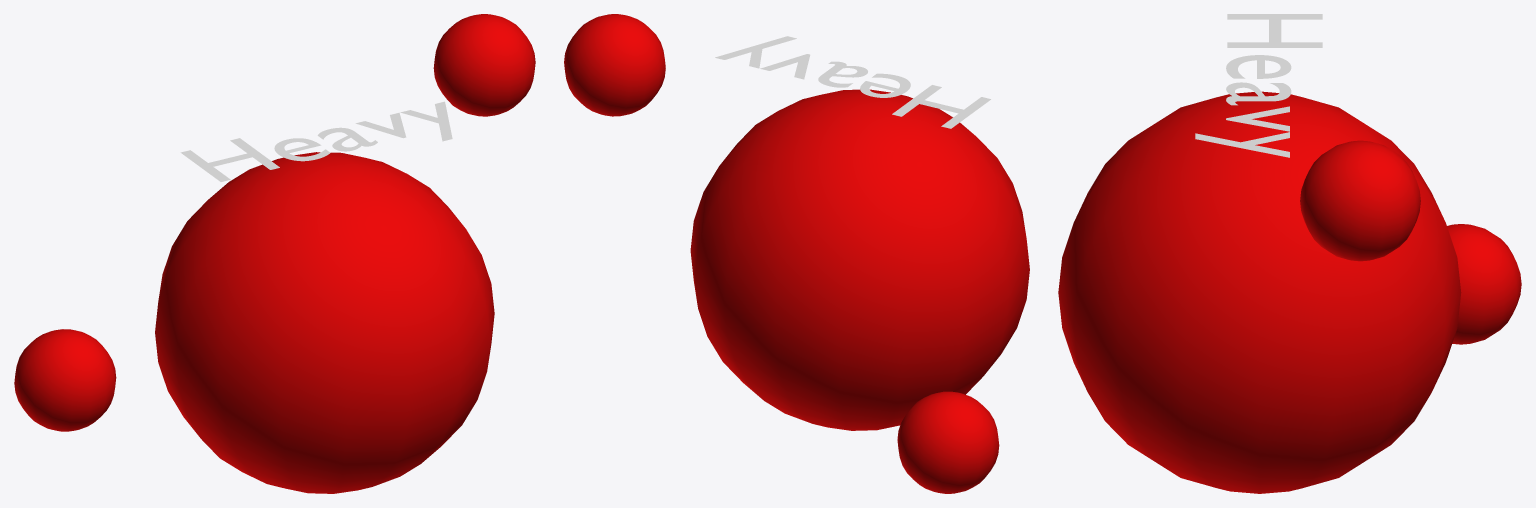
File: actor_attack_support.fbx
The picture shows the model from 3 angles, left to right: view 1: azimuth 30°, elevation 25°; view 2: azimuth 150°, elevation 25°; view 3: azimuth 270°, elevation 25°; orthographic projection. The views are drawn at different scales.
Visible parts, largest first — view 1: Sphere, Sphere.001, Sphere.002, Font; view 2: Sphere, Sphere.002, Sphere.001, Font; view 3: Sphere, Sphere.001, Sphere.002, Font.
Part boxes in pixels (bbox=[...]): Sphere: bbox=[155, 152, 494, 493]; Sphere.001: bbox=[433, 14, 535, 116]; Sphere.002: bbox=[14, 329, 116, 431]; Font: bbox=[180, 101, 452, 181]; Sphere: bbox=[690, 89, 1029, 430]; Sphere.002: bbox=[897, 391, 999, 493]; Sphere.001: bbox=[564, 14, 665, 116]; Font: bbox=[715, 36, 990, 128]; Sphere: bbox=[1058, 91, 1461, 493]; Sphere.001: bbox=[1300, 140, 1420, 261]; Sphere.002: bbox=[1447, 224, 1521, 344]; Font: bbox=[1195, 14, 1322, 157].
Bounding box in the file's own units: 3.14 × 2.44 × 2.3.
